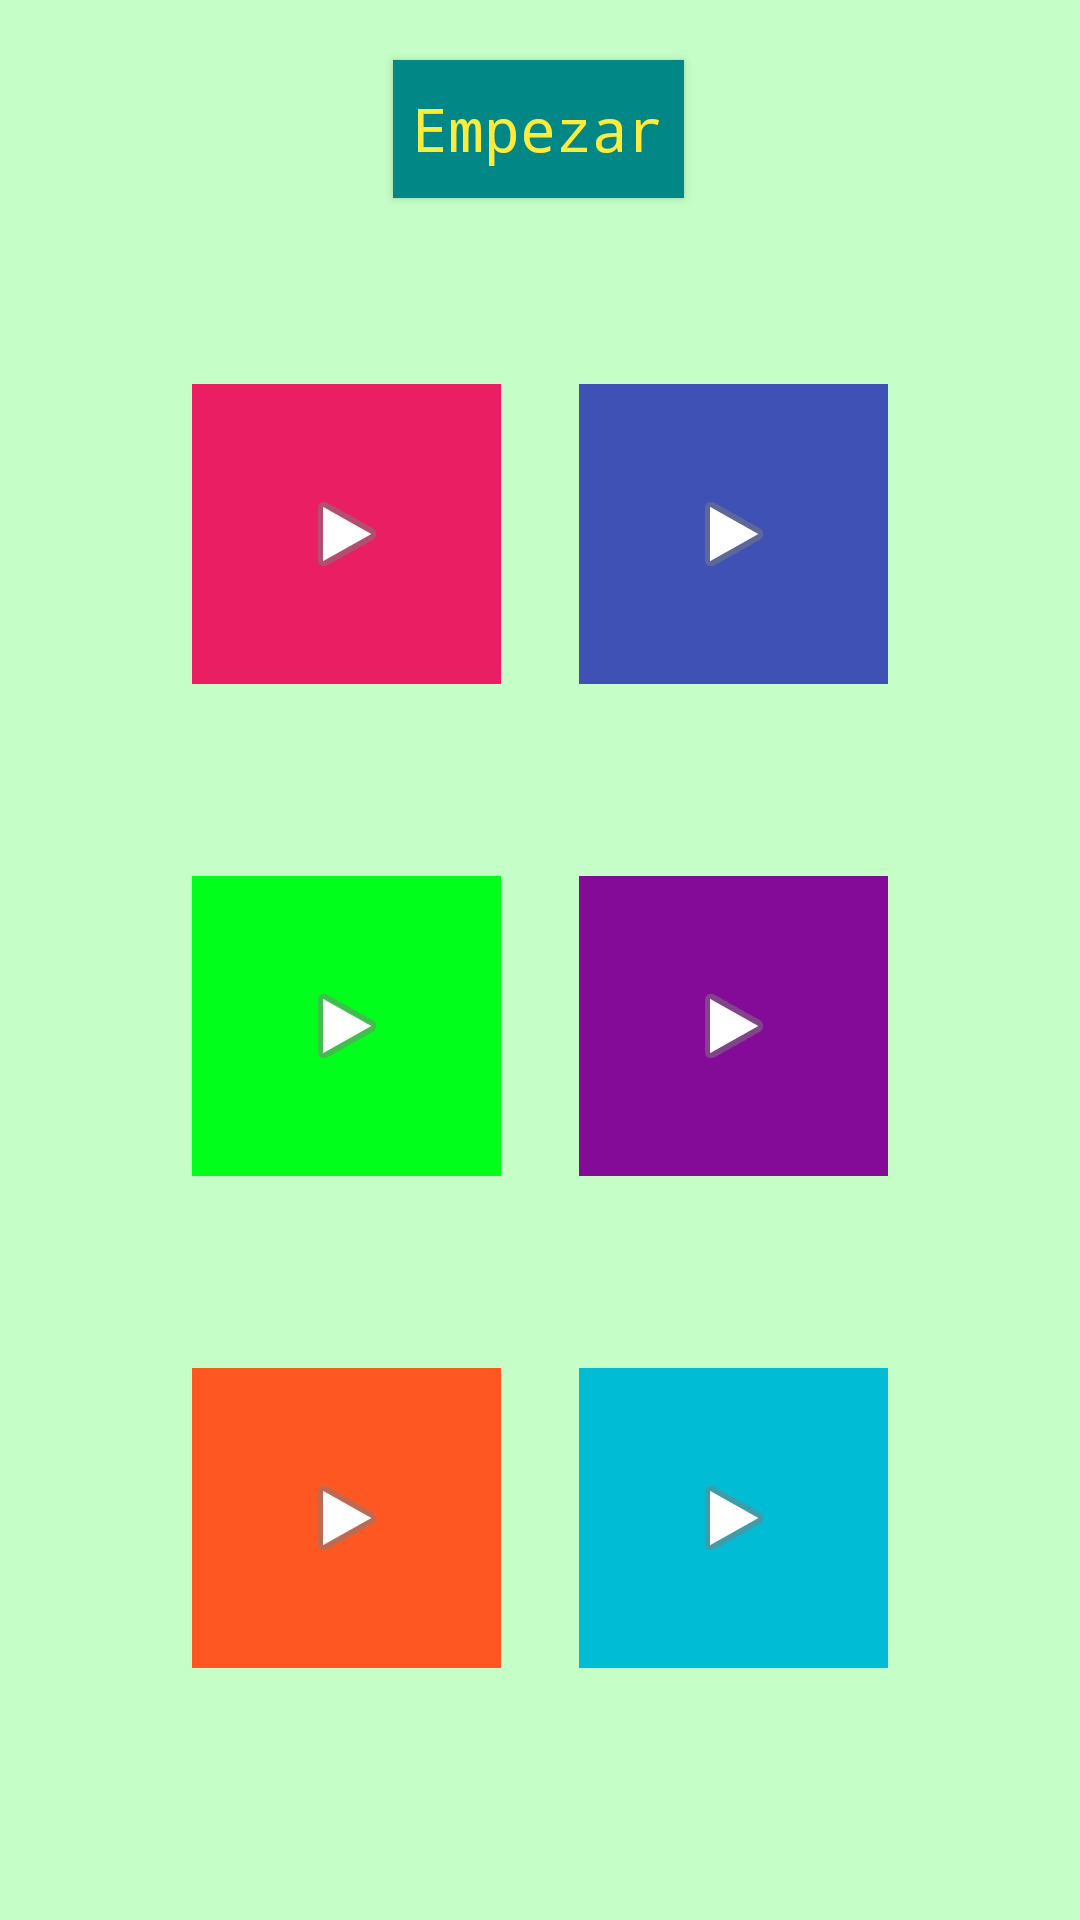

Where to tap for icons on this 1080 × 1920 app screen, as (x=x, y=y):
play: (x=346, y=534), (x=733, y=534), (x=346, y=1026), (x=733, y=1026), (x=346, y=1518), (x=733, y=1518)
